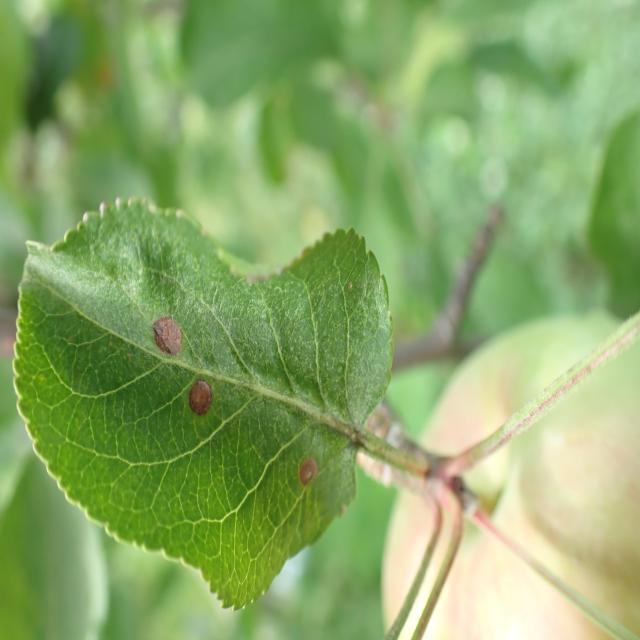Black Rot: (149, 304, 187, 372), (185, 366, 216, 440), (296, 439, 323, 510)
